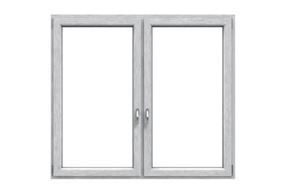Window: (51, 14, 235, 178)
